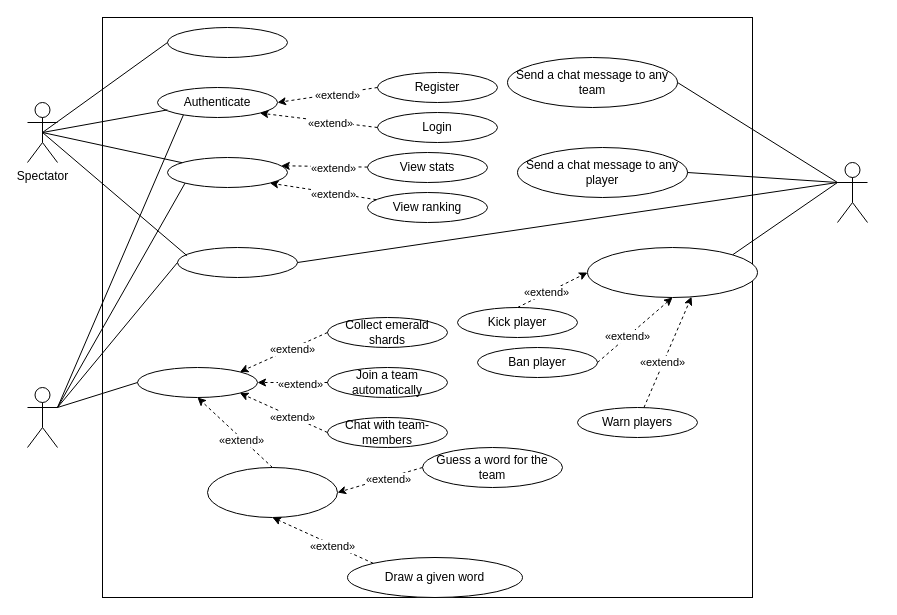
This 897x615 diagram has some shape labels left out. Here are the shapes that lost their labels. From the top down, the centre of each, then its label:
At [227,42]: "Chat with other spectators".
At [227,172]: "View leader-board".
At [852,192]: "Moderator".
At [237,262]: "Spectate game".
At [672,272]: "Moderate players".
At [197,382]: "Play game".
At [42,417]: "Player".
At [272,492]: "Play game rounds as part of a team".
